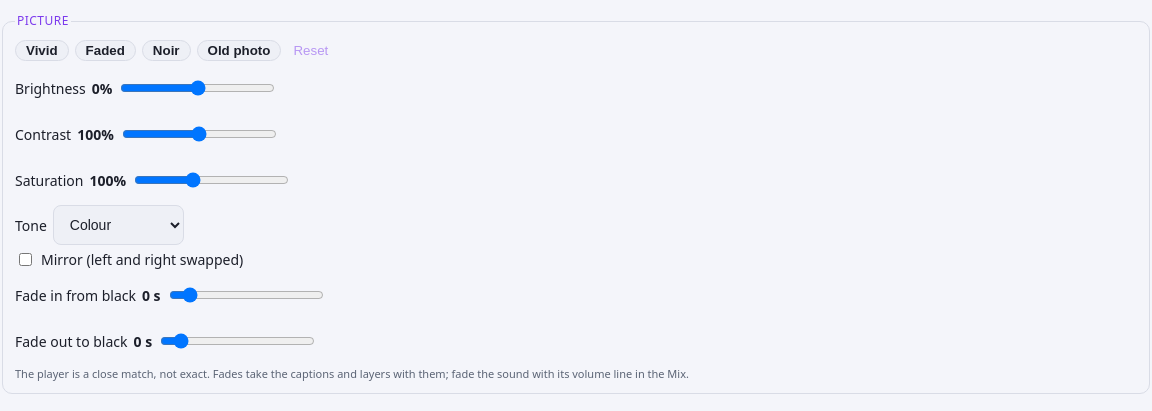
Scenario: the Picture box › sets the fades in seconds and keeps them inside the clip
Set the slider labelled "Fade out to black 0 s" to "4000" at coordinates (279, 341), box [160,322,315,360]
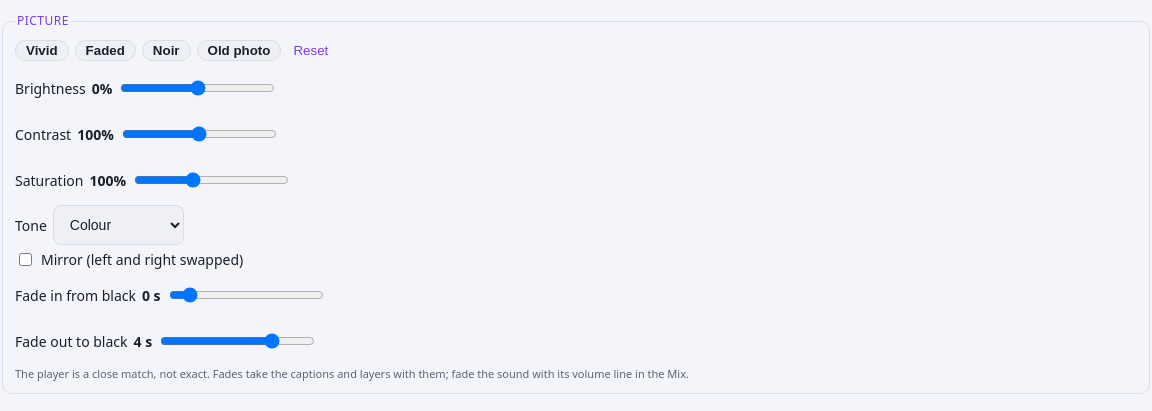
Set the slider labelled "Fade in from black 0 s" to "3000" at coordinates (260, 295), box [169,276,324,314]
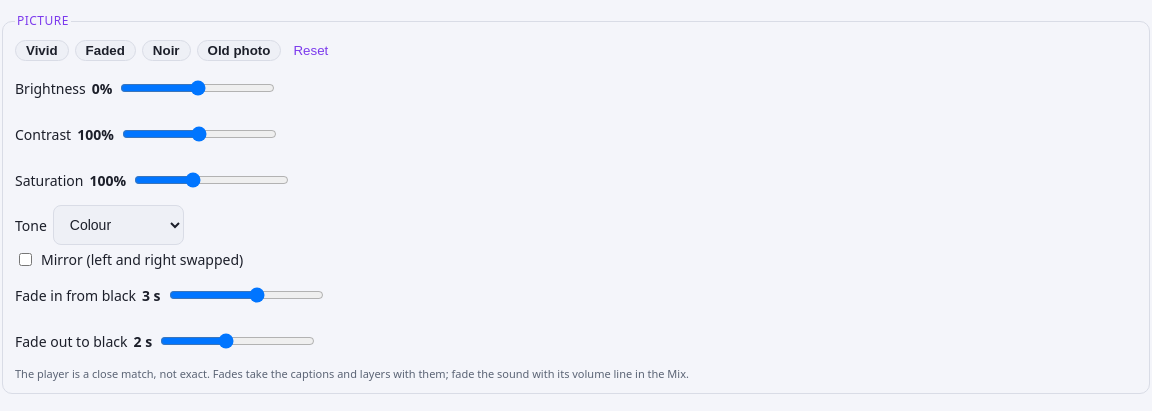
Expected: the text "3 s" is shown, [142,284,161,306]
